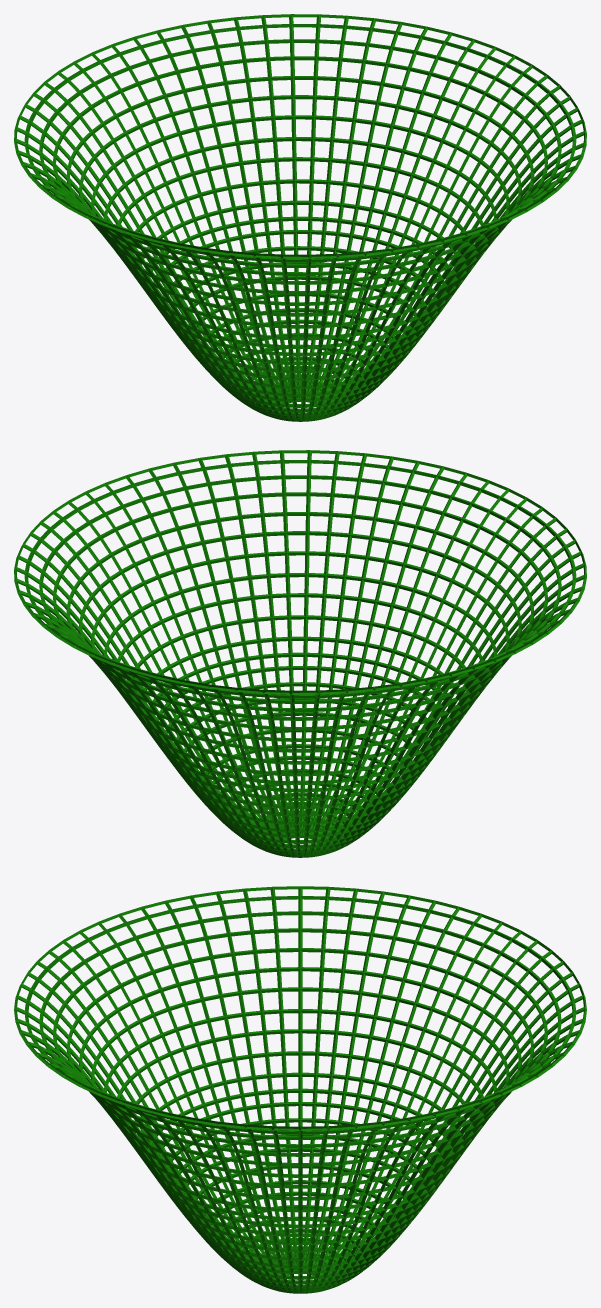
File: Wormhole1.fbx
The picture shows the model from 3 angles, top to bottom: view 1: azimuth 30°, elevation 25°; view 2: azimuth 150°, elevation 25°; view 3: azimuth 270°, elevation 25°; orthographic projection.
Visible parts, largest first — view 1: Circle; view 2: Circle; view 3: Circle.
Part boxes in pixels (x1,y1,x2,y2): Circle: (14, 14, 586, 421); Circle: (14, 450, 586, 857); Circle: (14, 886, 586, 1293).
Bounding box in the file's own units: 201 × 106 × 201.
